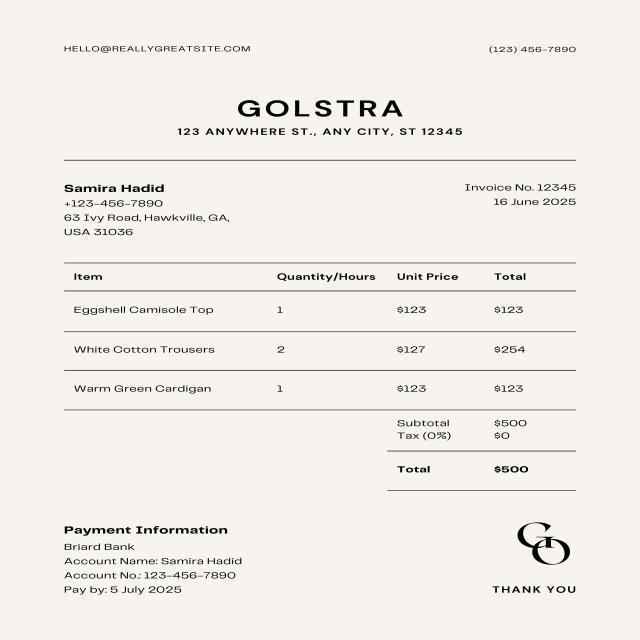ROI: (44, 264, 585, 402), (57, 497, 261, 612), (173, 91, 471, 149), (387, 409, 578, 498), (47, 177, 243, 241), (49, 26, 278, 75), (457, 171, 594, 217), (517, 516, 578, 567), (489, 579, 589, 605), (481, 37, 592, 60)
